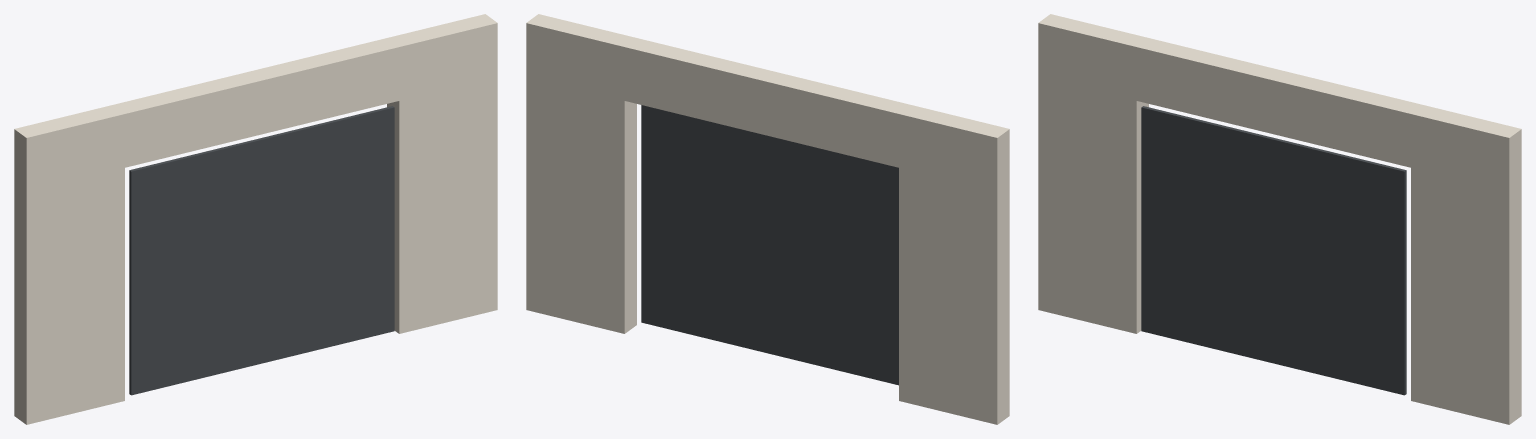
Rendered from bh_villa_garage_opening_01_lod0.glb.
The picture shows the model from 3 angles, left to right: view 1: azimuth 30°, elevation 25°; view 2: azimuth 150°, elevation 25°; view 3: azimuth 330°, elevation 25°; orthographic projection.
Parts seen in each view (by area): view 1: bh_villa_garage_opening_01_infill, bh_villa_garage_opening_01_left, bh_villa_garage_opening_01_right, bh_villa_garage_opening_01_top; view 2: bh_villa_garage_opening_01_infill, bh_villa_garage_opening_01_left, bh_villa_garage_opening_01_right, bh_villa_garage_opening_01_top; view 3: bh_villa_garage_opening_01_infill, bh_villa_garage_opening_01_right, bh_villa_garage_opening_01_left, bh_villa_garage_opening_01_top.
Boxes of the visible parts, box(x1,y1,x2,y2) form: bh_villa_garage_opening_01_infill: box(129, 106, 394, 395); bh_villa_garage_opening_01_left: box(14, 105, 124, 424); bh_villa_garage_opening_01_right: box(387, 14, 497, 333); bh_villa_garage_opening_01_top: box(113, 38, 399, 167); bh_villa_garage_opening_01_infill: box(641, 105, 898, 385); bh_villa_garage_opening_01_left: box(899, 105, 1009, 424); bh_villa_garage_opening_01_right: box(526, 14, 636, 333); bh_villa_garage_opening_01_top: box(624, 38, 910, 167); bh_villa_garage_opening_01_infill: box(1141, 106, 1406, 395); bh_villa_garage_opening_01_right: box(1411, 105, 1521, 424); bh_villa_garage_opening_01_left: box(1038, 14, 1148, 333); bh_villa_garage_opening_01_top: box(1136, 38, 1422, 167).
Size of the model in its own units: 5.5 by 3.2 by 0.265.
